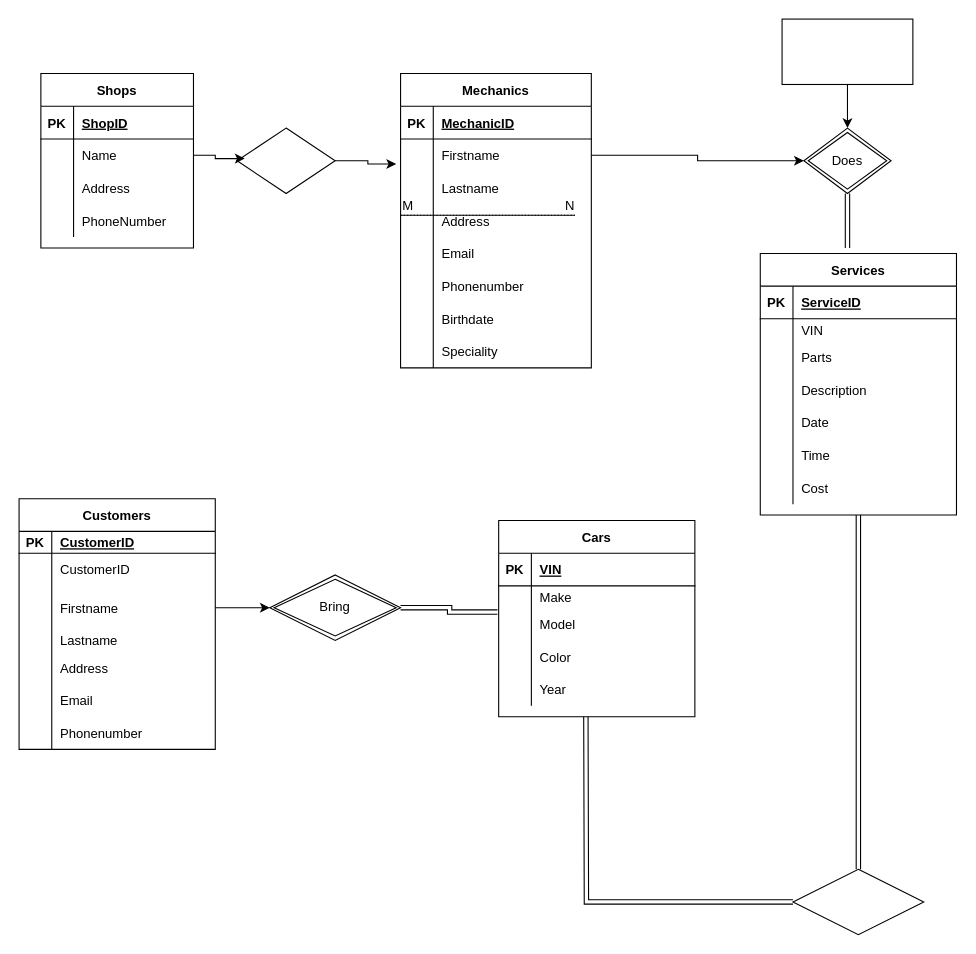
This 976x954 diagram has some shape labels left out. Each missing label, with the centre of its shape:
Function: (x=285, y=160)
Repair: (x=858, y=901)
ServiceID MechanicID: (x=847, y=51)
